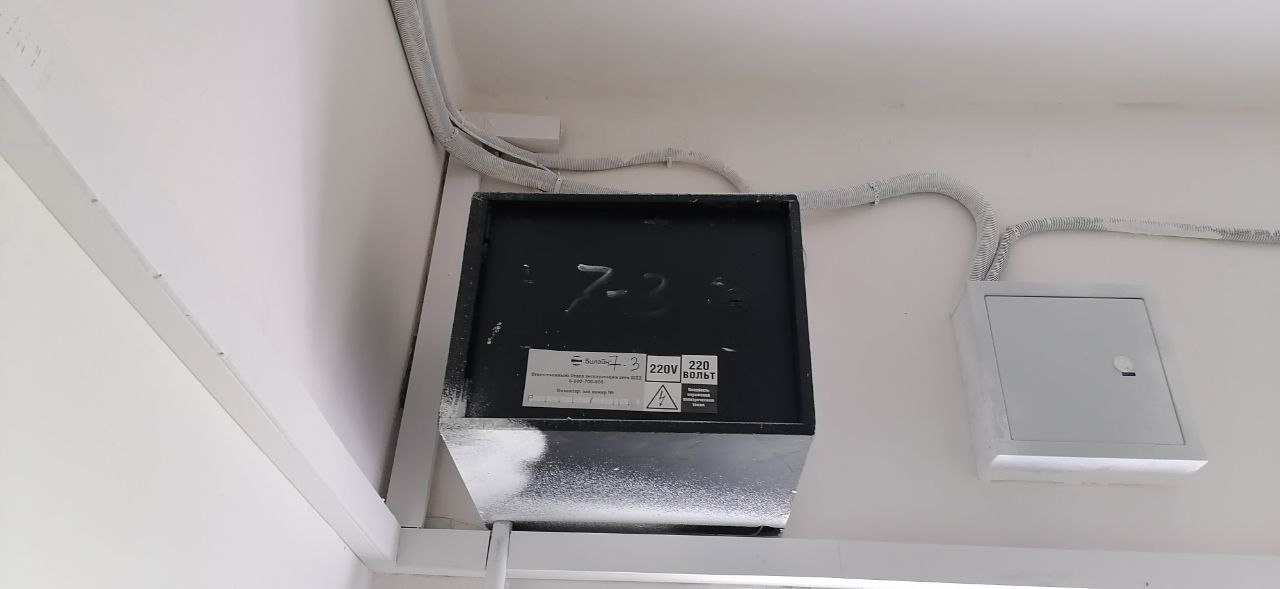shta-9m: (425, 179, 829, 536)
